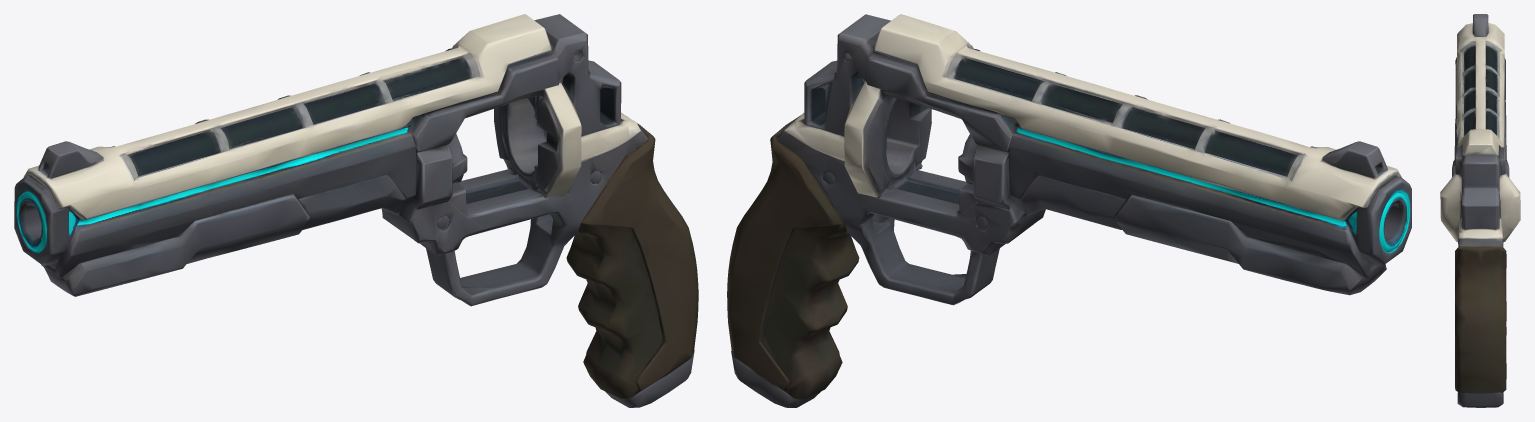
The model's file is kestrel.fbx.
The picture shows the model from 3 angles, left to right: view 1: azimuth 30°, elevation 25°; view 2: azimuth 150°, elevation 25°; view 3: azimuth 270°, elevation 25°; orthographic projection. The views are drawn at different scales.
Parts seen in each view (by area): view 1: tripo_node_4faefbcd; view 2: tripo_node_4faefbcd; view 3: tripo_node_4faefbcd.
Part boxes in pixels (box(x1,y1,x2,y2)): tripo_node_4faefbcd: box(14, 14, 698, 407); tripo_node_4faefbcd: box(727, 14, 1411, 407); tripo_node_4faefbcd: box(1440, 14, 1520, 407).
Size of the model in its own units: 0.9803 by 0.5682 by 0.1773.
